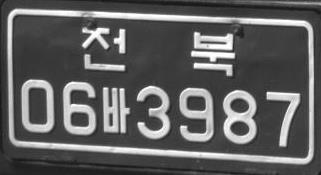0: (21, 77, 54, 133)
3: (135, 84, 171, 139)
6: (63, 81, 97, 135)
7: (266, 91, 301, 147)
8: (222, 88, 258, 144)
9: (178, 86, 213, 141)
바: (102, 86, 129, 133)
전북_D: (82, 25, 235, 77)
